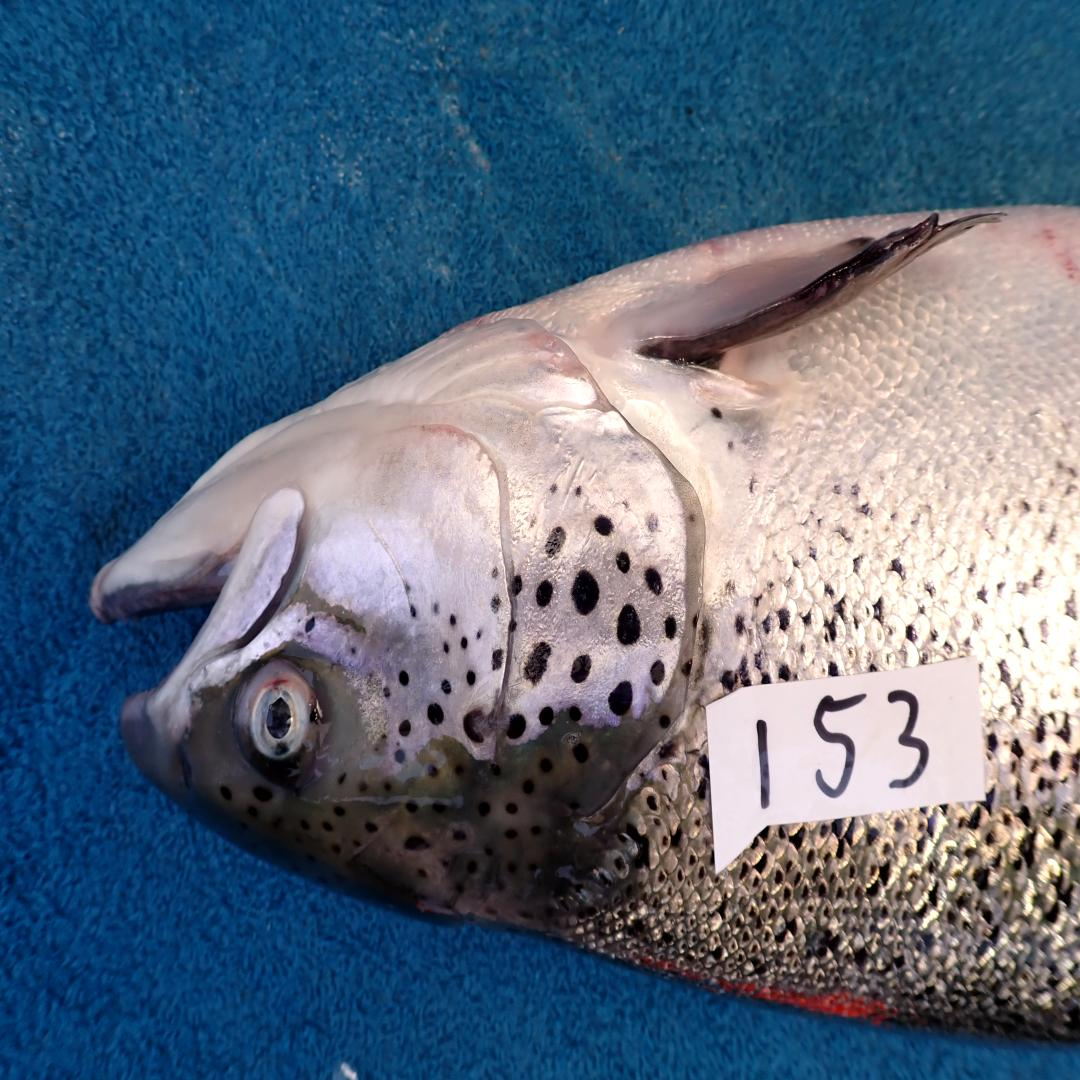roi: (304, 310, 696, 774)
